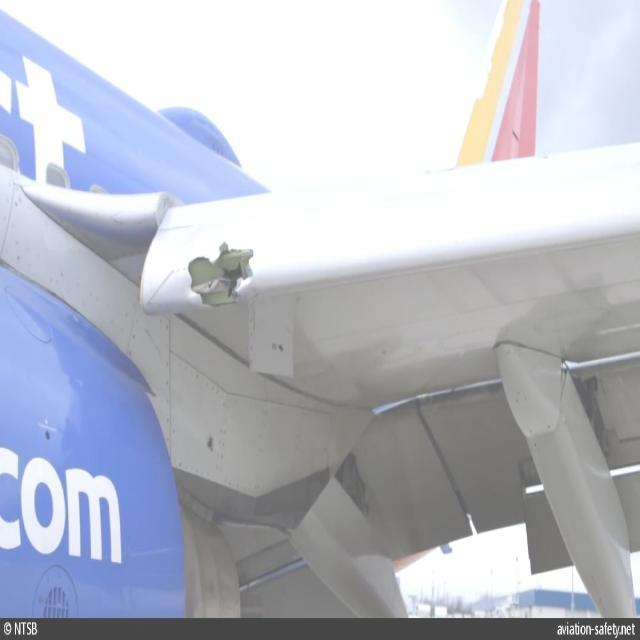crack: (181, 240, 259, 312)
